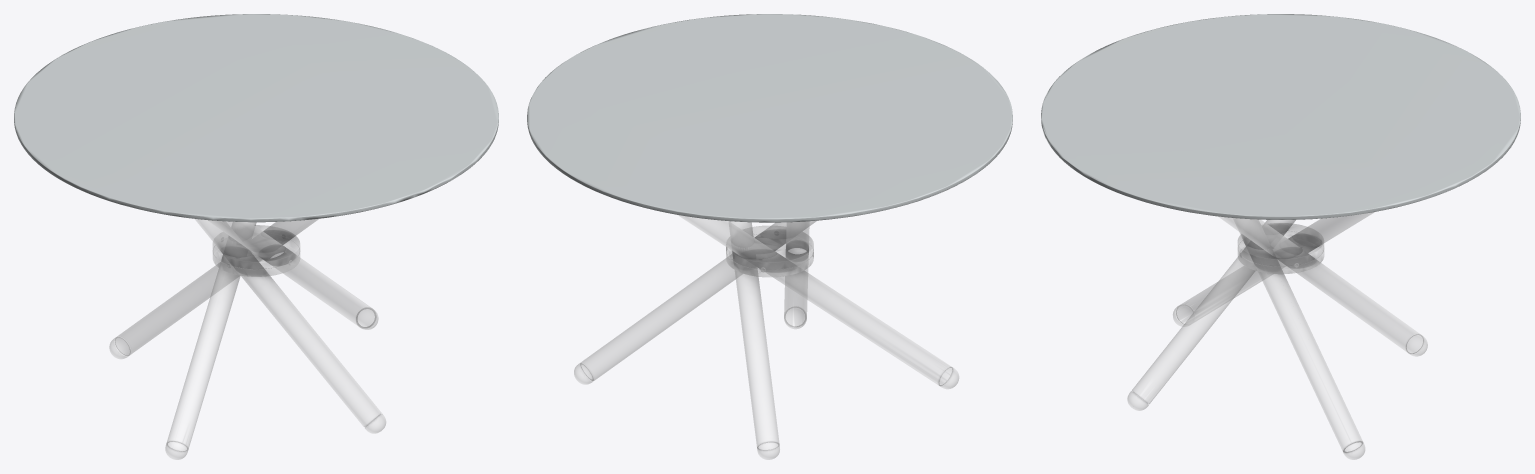
3 views of the same model, side by side, from view 1: azimuth 30°, elevation 25°; view 2: azimuth 150°, elevation 25°; view 3: azimuth 270°, elevation 25° (orthographic).
Parts seen in each view (by area): view 1: Modern Glass Table; view 2: Modern Glass Table; view 3: Modern Glass Table.
Part boxes in pixels (x1,y1,x2,y2): Modern Glass Table: [14, 14, 498, 459]; Modern Glass Table: [527, 14, 1012, 459]; Modern Glass Table: [1041, 14, 1520, 459].
Size of the model in its own units: 0.599 by 0.3757 by 0.599.
2 materials, 1 textured.
